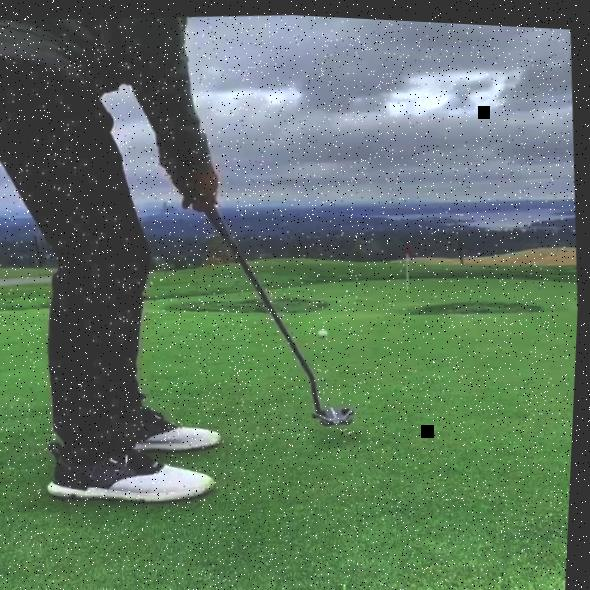ClubHead: (317, 399, 358, 426)
GolfBall: (320, 324, 333, 334)
